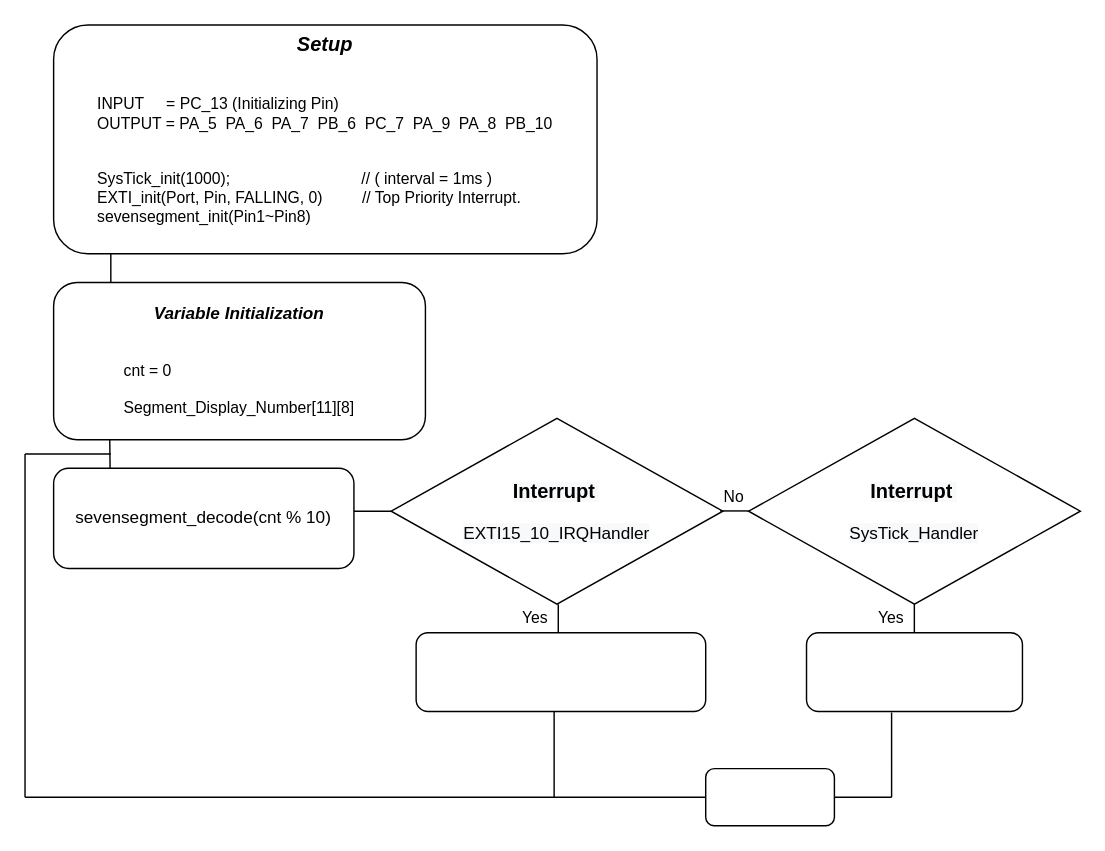
Image size: 1105x851. Some labels were removed from this diagram. The shapes that lost their labels are listed below. From the top down, each one's box as (x1, y1, x2, y2) in pixels, then its label:
(415, 631, 706, 711): Count & Delay Value Reset
(805, 631, 1022, 711): delay_ms(1000)
(704, 767, 834, 826): cnt ++
